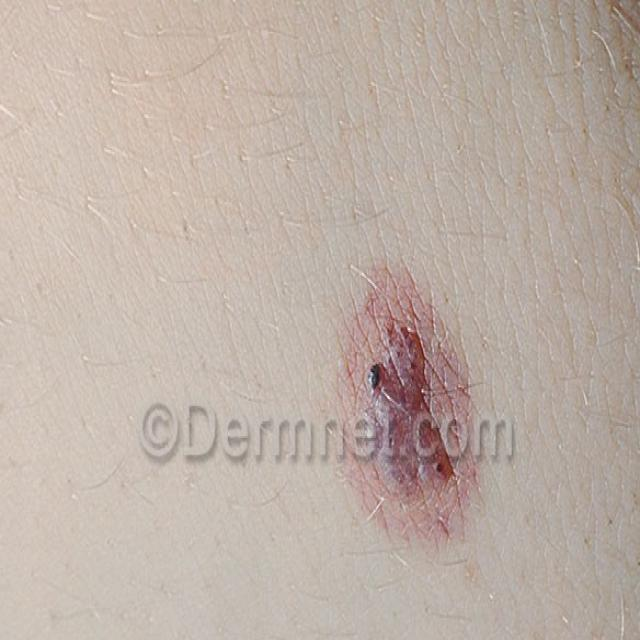Vascular Tumors: (320, 213, 508, 577)
